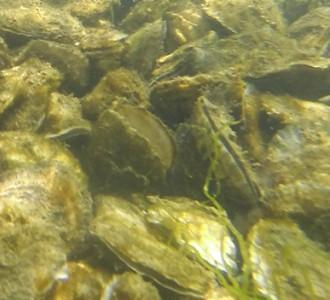3: (91, 195, 216, 299), (87, 106, 179, 195), (188, 97, 262, 203), (0, 0, 84, 43), (74, 22, 130, 56), (149, 53, 193, 94)
Oyster-Closed: (244, 54, 330, 101), (121, 19, 167, 78), (43, 119, 94, 141)
Oyster-Open: (0, 131, 92, 300), (130, 195, 250, 280), (247, 219, 330, 300), (190, 28, 302, 78), (270, 122, 330, 214), (116, 0, 209, 55), (0, 58, 64, 133), (15, 39, 91, 96), (79, 68, 151, 121), (196, 0, 290, 40), (244, 81, 289, 164), (262, 91, 330, 130), (38, 262, 107, 300), (152, 77, 206, 122), (289, 7, 330, 57), (103, 270, 164, 300), (47, 94, 83, 131), (0, 66, 26, 116), (68, 0, 114, 19)
